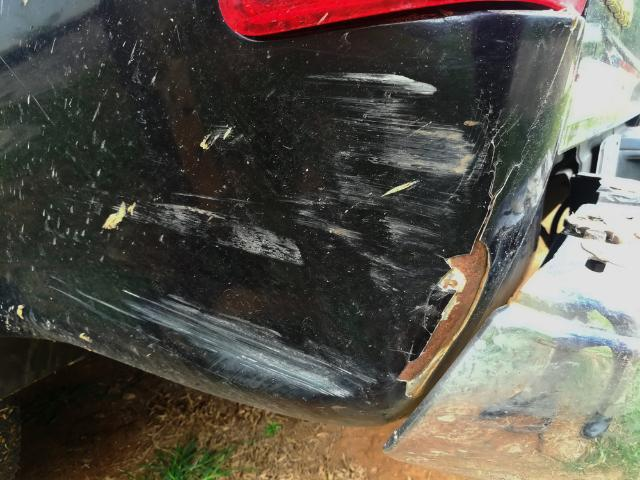crack: (396, 156, 521, 395)
scratch: (72, 54, 487, 298), (37, 274, 383, 402)
